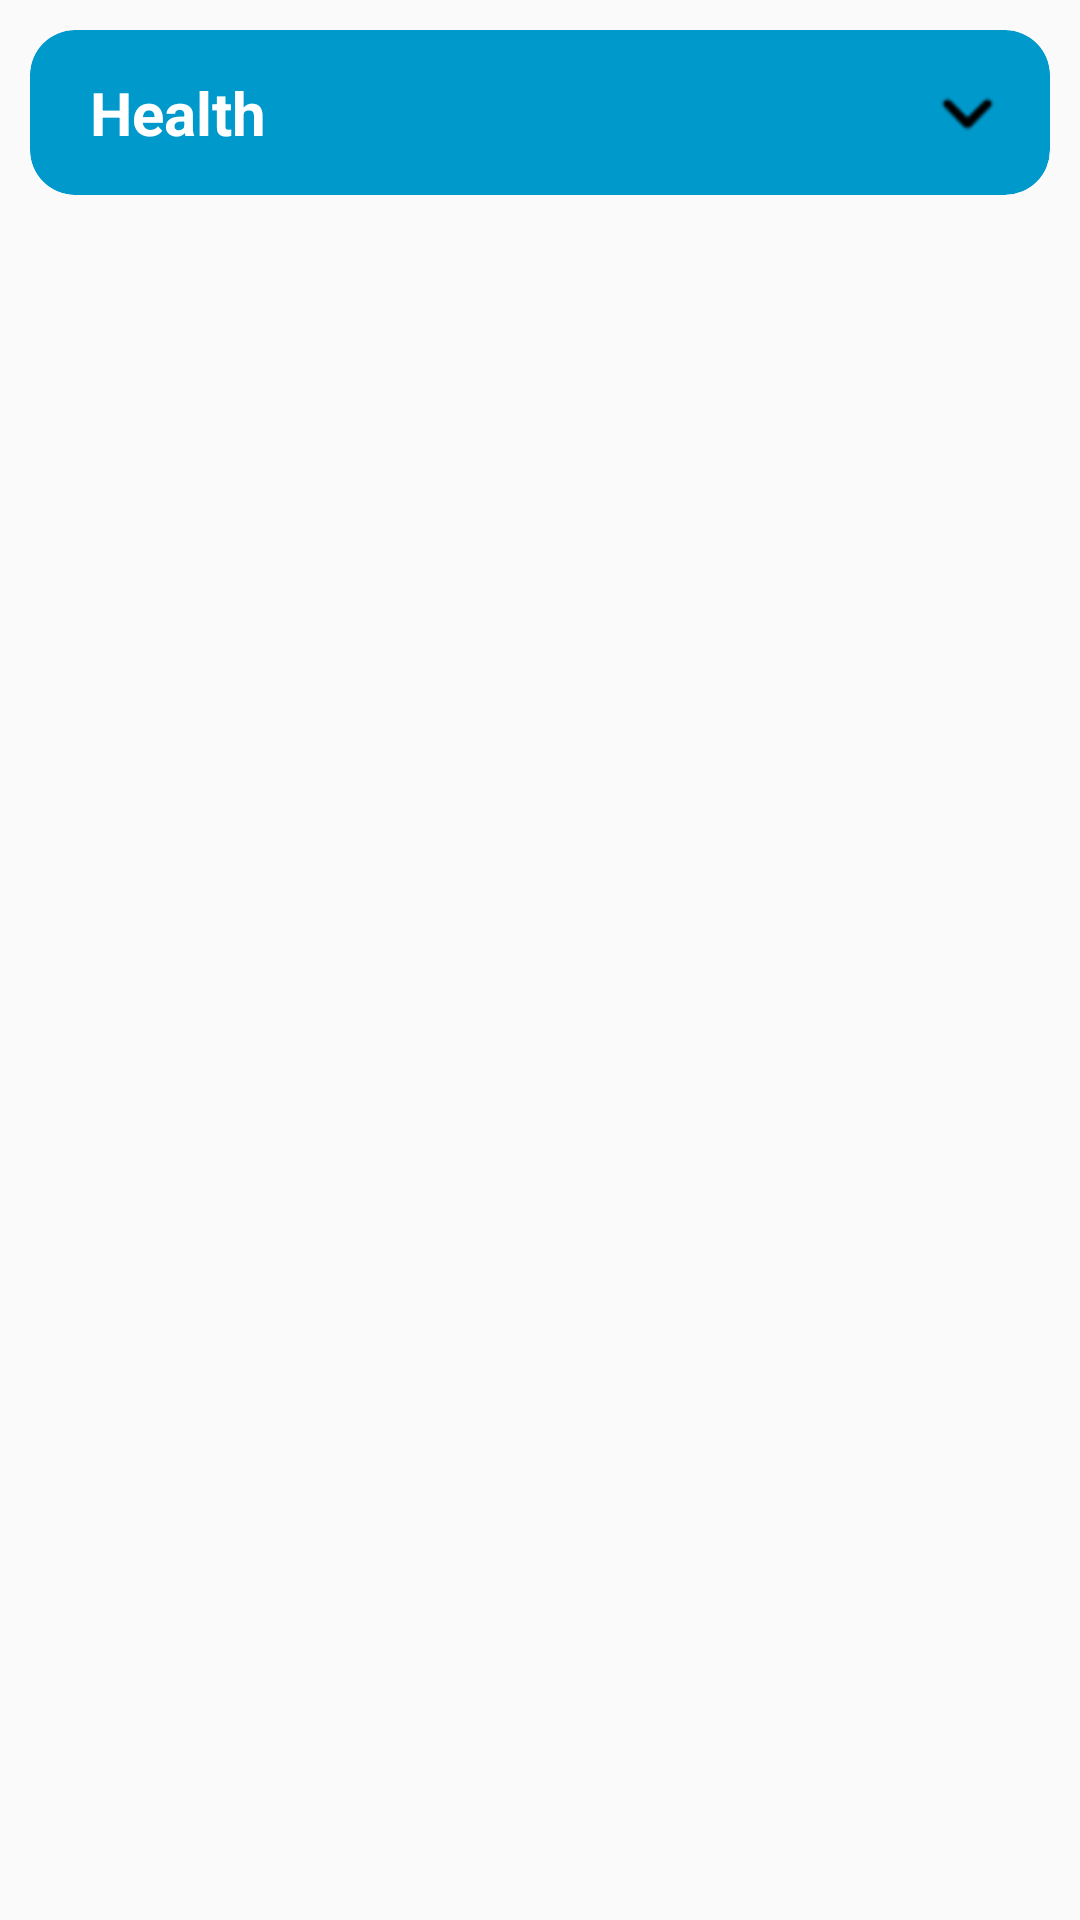

Icons on this 1080w x 1920h Android screen, each with the point to tap as (x,y):
down arrow: (967,114)
